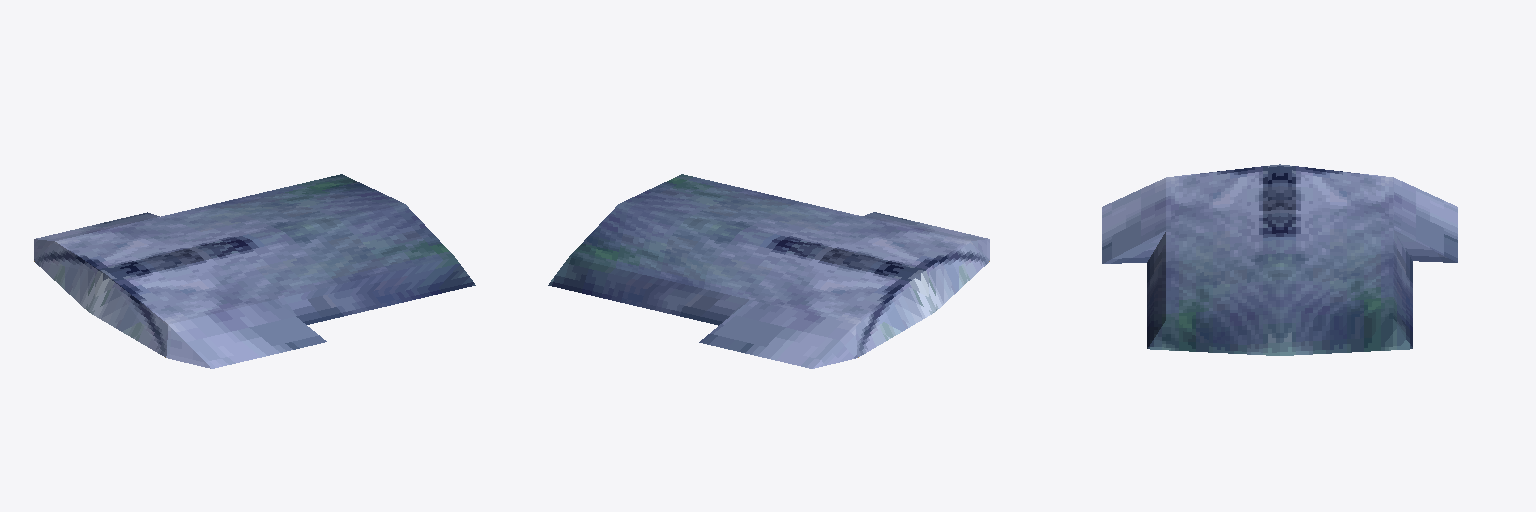
3 renders of one model, left to right at view 1: azimuth 30°, elevation 25°; view 2: azimuth 150°, elevation 25°; view 3: azimuth 270°, elevation 25°, orthographic.
Parts seen in each view (by area): view 1: foldershirtgreen.m2; view 2: foldershirtgreen.m2; view 3: foldershirtgreen.m2.
Boxes of the visible parts, x1=… form: foldershirtgreen.m2: x1=34, y1=174, x2=475, y2=368; foldershirtgreen.m2: x1=548, y1=174, x2=989, y2=368; foldershirtgreen.m2: x1=1102, y1=164, x2=1457, y2=355.
Bounding box in the file's own units: 0.5249 × 0.0552 × 0.4824.
Materials: 1 (1 with a texture image).